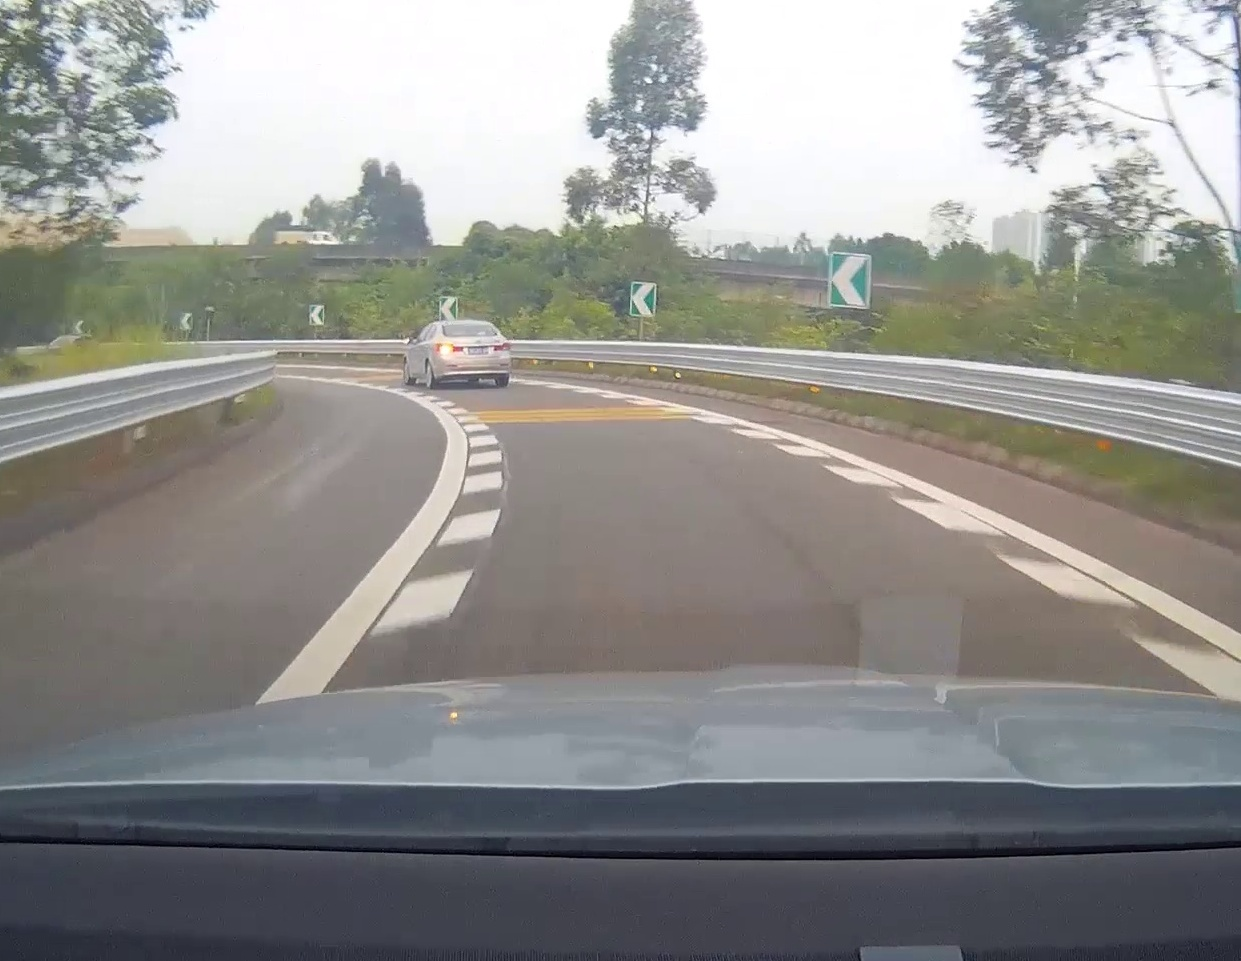L_light: (437, 344, 463, 353)
R_light: (493, 342, 510, 351)
T_light: (462, 325, 473, 327)
day-left: (432, 320, 512, 390)
